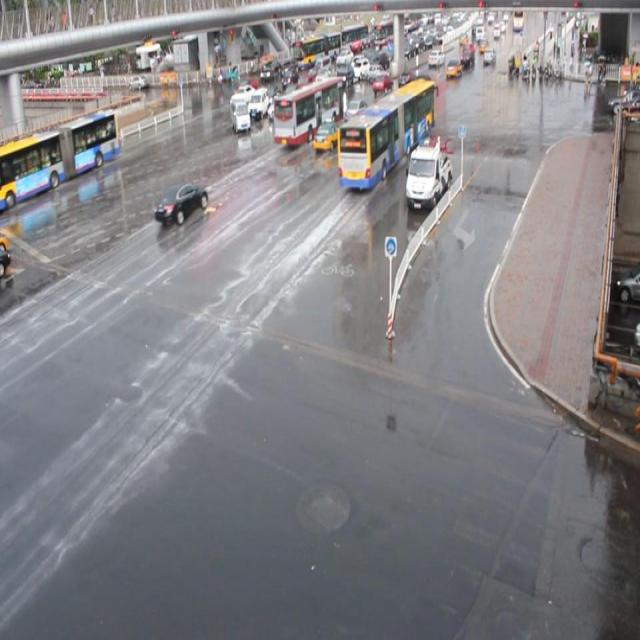bus: (403, 142, 450, 210)
car: (153, 181, 208, 224), (312, 118, 341, 150), (343, 98, 370, 122), (292, 90, 314, 116), (304, 80, 325, 106), (229, 84, 256, 104), (260, 83, 282, 107), (266, 96, 288, 119), (279, 82, 299, 106), (233, 76, 258, 95), (371, 73, 393, 94), (291, 75, 311, 97), (280, 68, 299, 88)
truck: (244, 88, 266, 120), (229, 98, 249, 132)
van: (0, 108, 120, 212), (336, 79, 435, 190), (273, 75, 343, 145)
